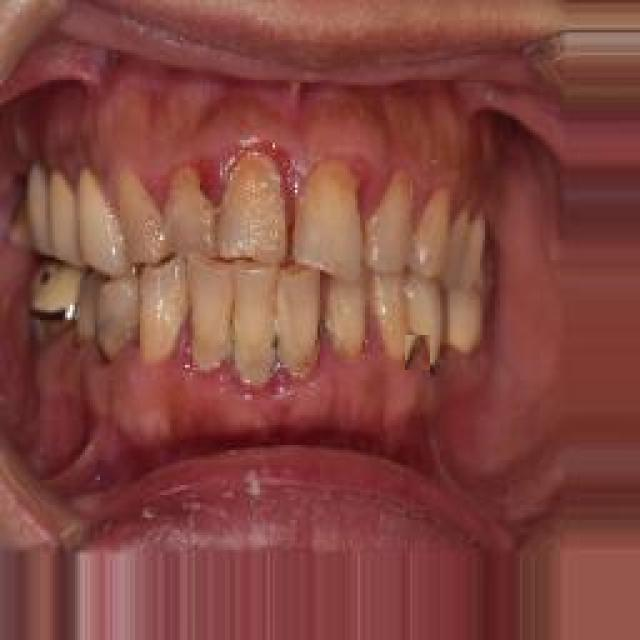caries: (38, 285, 83, 337), (405, 335, 430, 370)
